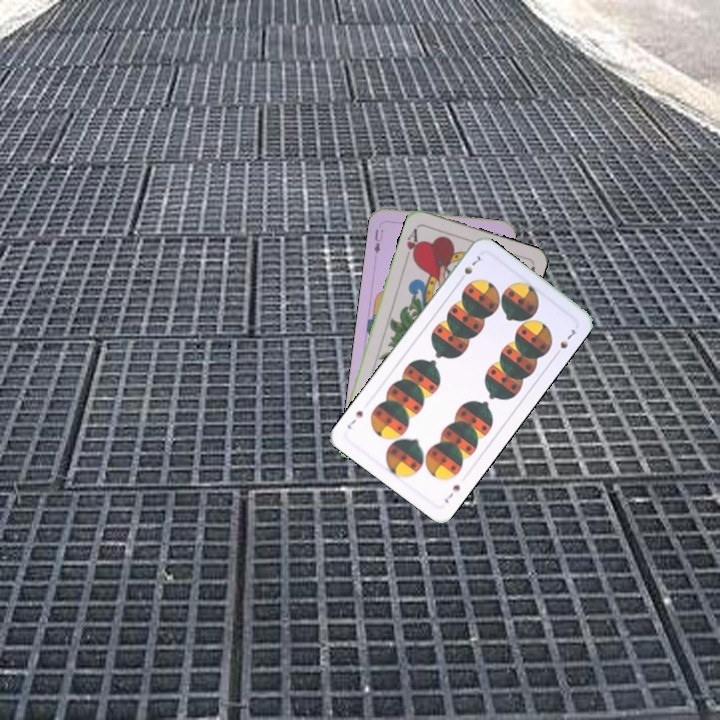EU: (370, 225, 386, 256)
HA: (401, 223, 422, 263)
S7: (455, 252, 483, 285), (440, 480, 463, 506)
